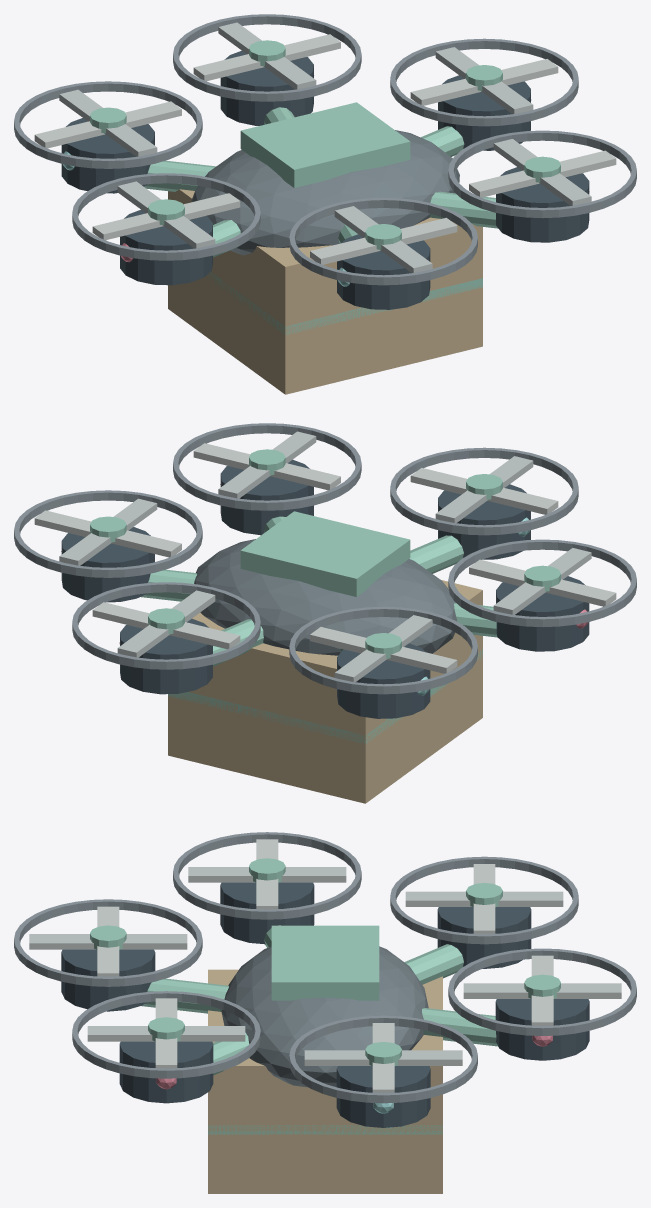
Rendered from cargo.glb.
3 renders of one model, top to bottom at view 1: azimuth 30°, elevation 25°; view 2: azimuth 150°, elevation 25°; view 3: azimuth 270°, elevation 25°, orthographic.
Parts seen in each view (by area): view 1: cargo_payload, cargo_body, cargo_topdeck, rotor_guard_4, rotor_guard_3, rotor_guard_0, rotor_guard_1, rotor_guard_2, rotor_guard_5, motor_0, motor_1, motor_2 (+25 smaller); view 2: cargo_payload, cargo_body, cargo_topdeck, rotor_guard_0, rotor_guard_5, rotor_guard_2, rotor_guard_1, rotor_guard_3, rotor_guard_4, motor_4, motor_2, motor_3 (+26 smaller); view 3: cargo_payload, cargo_body, cargo_topdeck, rotor_guard_0, rotor_guard_2, rotor_guard_1, rotor_guard_4, rotor_guard_5, rotor_guard_3, motor_0, motor_5, motor_4 (+26 smaller).
Boxes of the visible parts, bbox=[...] form: cargo_payload: bbox=[168, 189, 482, 394]; cargo_body: bbox=[191, 130, 459, 255]; cargo_topdeck: bbox=[240, 102, 410, 187]; rotor_guard_4: bbox=[173, 14, 361, 101]; rotor_guard_3: bbox=[14, 81, 202, 168]; rotor_guard_0: bbox=[448, 130, 636, 218]; rotor_guard_1: bbox=[289, 197, 477, 285]; rotor_guard_2: bbox=[72, 173, 260, 260]; rotor_guard_5: bbox=[390, 38, 578, 126]; motor_0: bbox=[496, 167, 589, 242]; motor_1: bbox=[337, 234, 430, 309]; motor_2: bbox=[120, 210, 212, 285]; cargo_payload: bbox=[168, 580, 482, 803]; cargo_body: bbox=[194, 539, 457, 655]; cargo_topdeck: bbox=[240, 511, 410, 596]; rotor_guard_0: bbox=[173, 423, 361, 510]; rotor_guard_5: bbox=[14, 490, 202, 577]; rotor_guard_2: bbox=[448, 539, 636, 627]; rotor_guard_1: bbox=[390, 447, 578, 535]; rotor_guard_3: bbox=[289, 606, 477, 694]; rotor_guard_4: bbox=[72, 582, 260, 669]; motor_4: bbox=[120, 618, 212, 694]; motor_2: bbox=[496, 576, 589, 651]; motor_3: bbox=[337, 643, 430, 718]; cargo_payload: bbox=[208, 969, 442, 1193]; cargo_body: bbox=[221, 946, 428, 1087]; cargo_topdeck: bbox=[271, 925, 379, 1000]; rotor_guard_0: bbox=[72, 991, 260, 1078]; rotor_guard_2: bbox=[173, 832, 361, 919]; rotor_guard_1: bbox=[14, 899, 202, 986]; rotor_guard_4: bbox=[448, 948, 636, 1035]; rotor_guard_5: bbox=[289, 1015, 477, 1103]; rotor_guard_3: bbox=[390, 856, 578, 944]; motor_0: bbox=[119, 1041, 213, 1103]; motor_5: bbox=[336, 1066, 430, 1127]; motor_4: bbox=[495, 999, 589, 1060].
Size of the model in its own units: 2.47 by 0.8379 by 2.47.
